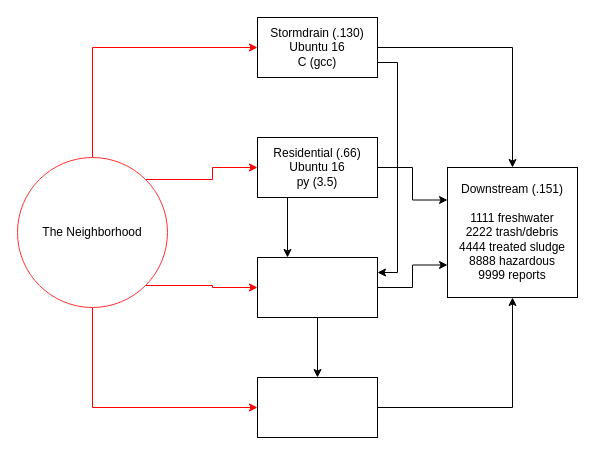
This 595x455 diagram has some shape labels left out. The shapes that lost their labels are listed below. From the top down, each one's centre as x and y in pixels, then its label:
At [317,287]: "Pretreatment (.235) FREEBSD C (clang)".
At [317,407]: "Treatment (.1) Ubuntu 16 C (clang)".
